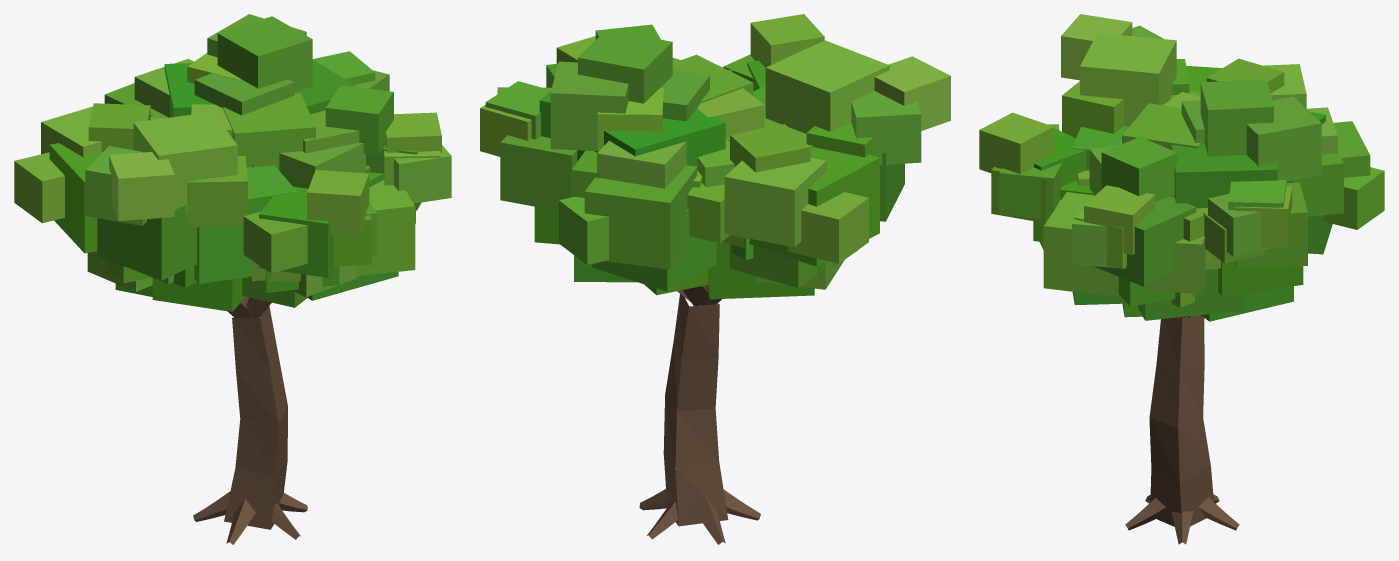
Rendered from tree_round.glb.
3 renders of one model, left to right at view 1: azimuth 30°, elevation 25°; view 2: azimuth 150°, elevation 25°; view 3: azimuth 270°, elevation 25°, orthographic. The views are drawn at different scales.
Parts seen in each view (by area): view 1: tree_round_foliage, tree_round_bark; view 2: tree_round_foliage, tree_round_bark; view 3: tree_round_foliage, tree_round_bark.
Part boxes in pixels (x1,y1,x2,y2): tree_round_foliage: (14,14,451,311); tree_round_bark: (193,296,307,544); tree_round_foliage: (480,14,950,299); tree_round_bark: (639,285,760,544); tree_round_foliage: (979,14,1384,321); tree_round_bark: (1125,315,1239,544).
Bounding box in the file's own units: 3.74 × 4.65 × 3.83.
